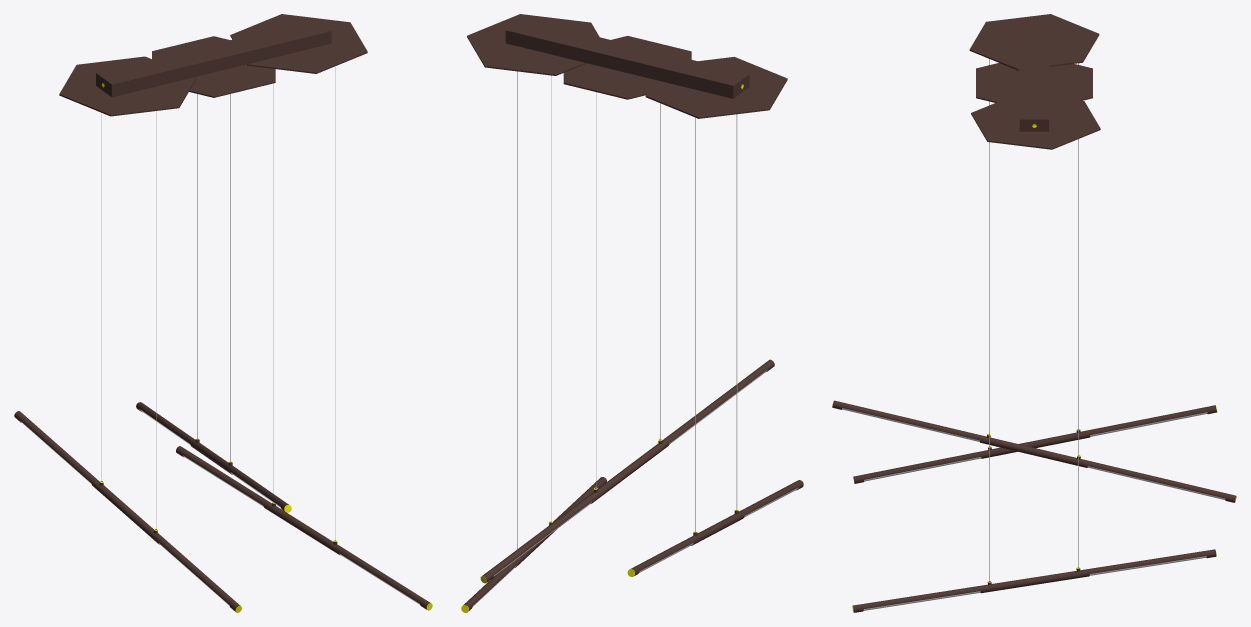
Rendered from designconnected-link-pendant-lamp-9038.optimized.glb.
3 views of the same model, side by side, from view 1: azimuth 30°, elevation 25°; view 2: azimuth 150°, elevation 25°; view 3: azimuth 270°, elevation 25° (orthographic). The views are drawn at different scales.
Parts seen in each view (by area): view 1: CVL_Luminaires_Link_Pendant_mat1; view 2: CVL_Luminaires_Link_Pendant_mat1; view 3: CVL_Luminaires_Link_Pendant_mat1.
Part boxes in pixels (<box>): CVL_Luminaires_Link_Pendant_mat1: <box>14,14,432,612</box>; CVL_Luminaires_Link_Pendant_mat1: <box>461,14,803,612</box>; CVL_Luminaires_Link_Pendant_mat1: <box>832,14,1236,612</box>.
Size of the model in its own units: 0.59 by 1 by 0.7502.
